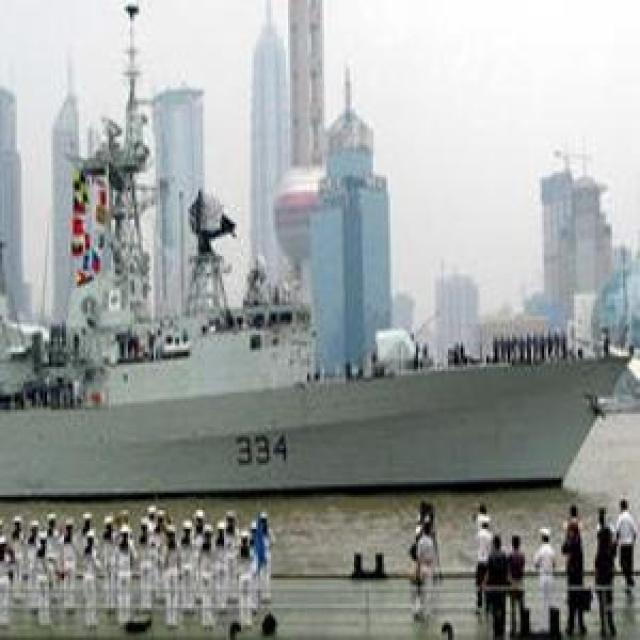navalvessels: (0, 90, 622, 487)
